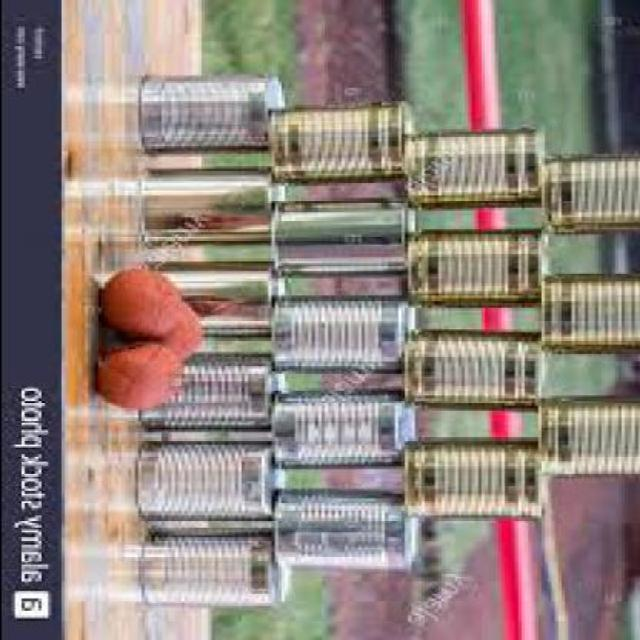METAL: (403, 132, 554, 215), (140, 76, 294, 156), (266, 108, 414, 188), (273, 493, 416, 575), (410, 442, 547, 523), (143, 530, 280, 610), (273, 298, 416, 374), (276, 200, 413, 278), (144, 173, 287, 247), (413, 235, 553, 310), (140, 447, 277, 522), (276, 398, 413, 472), (147, 264, 279, 339), (414, 337, 546, 411), (543, 158, 639, 240), (543, 400, 639, 480), (550, 276, 638, 358)
